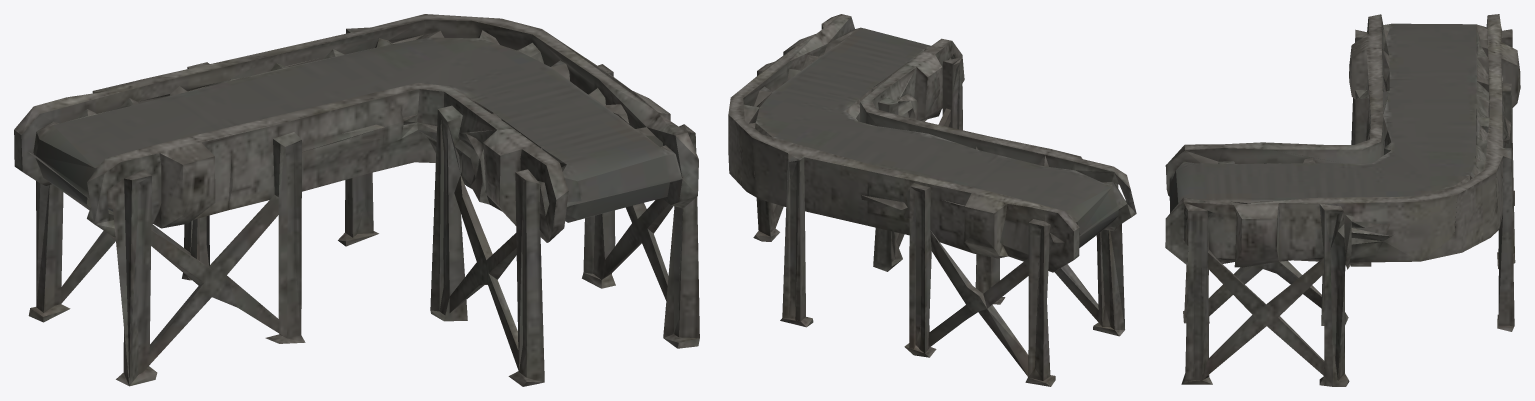
File: struct.conveyor.corner.glb
3 views of the same model, side by side, from view 1: azimuth 30°, elevation 25°; view 2: azimuth 150°, elevation 25°; view 3: azimuth 270°, elevation 25° (orthographic). The views are drawn at different scales.
Visible parts, largest first — view 1: body; view 2: body; view 3: body.
Part boxes in pixels (left/top/right/bottom): body: left=14, top=14, right=699, bottom=386; body: left=728, top=14, right=1136, bottom=386; body: left=1165, top=14, right=1520, bottom=386.
Size of the model in its own units: 0.5993 by 0.2475 by 0.4394.
1 material, 1 textured.
